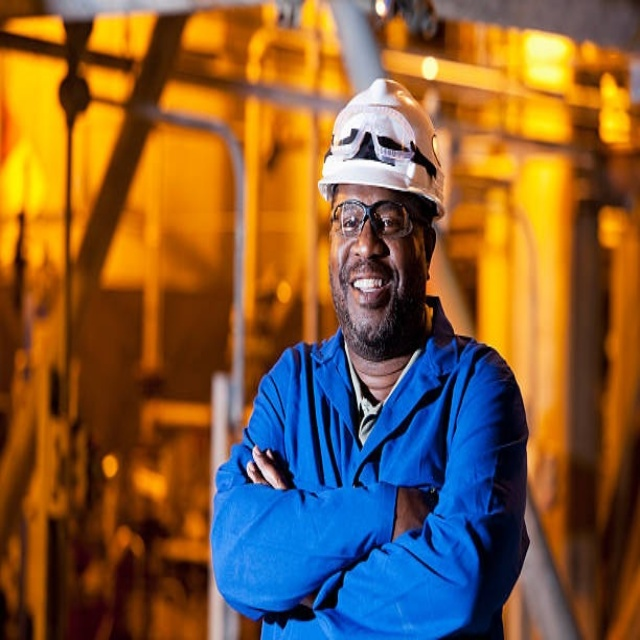Gafas: (328, 196, 419, 238)
Sin_mascara: (347, 264, 395, 323)
